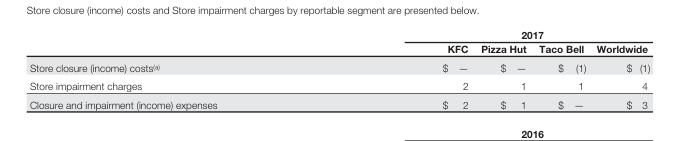table: (28, 28, 649, 109)
table column: (28, 28, 329, 109), (329, 28, 473, 109), (531, 28, 590, 109), (590, 28, 649, 109), (473, 28, 531, 109)
table column header: (28, 28, 649, 57)
table row: (28, 57, 649, 76), (28, 76, 649, 94), (28, 41, 649, 57), (28, 94, 649, 109), (28, 28, 649, 41)
table spanning cell: (329, 28, 649, 41)
